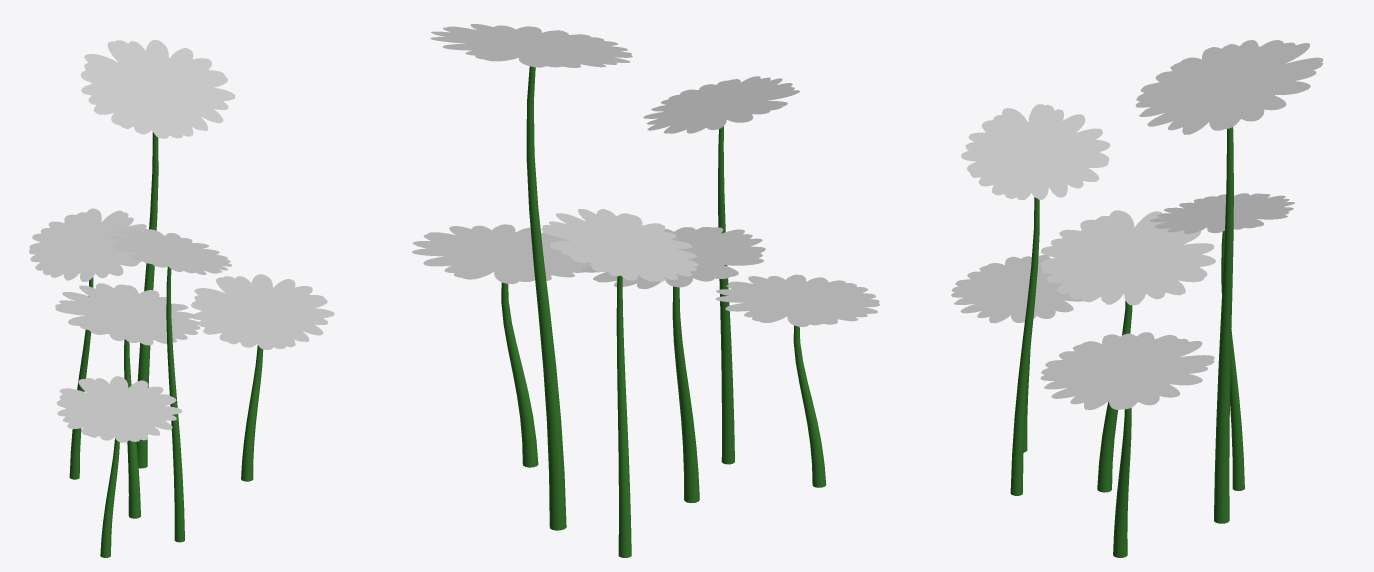
Rendered from paquerettes1.fbx.
The picture shows the model from 3 angles, left to right: view 1: azimuth 30°, elevation 25°; view 2: azimuth 150°, elevation 25°; view 3: azimuth 270°, elevation 25°; orthographic projection. The views are drawn at different scales.
Visible parts, largest first — view 1: sweep102; view 2: sweep102; view 3: sweep102.
Part boxes in pixels (box(x1,y1,x2,y2)): sweep102: box(29, 40, 334, 557); sweep102: box(412, 24, 879, 557); sweep102: box(951, 40, 1323, 557).
Size of the model in its own units: 3.03 by 3.3 by 2.74.
